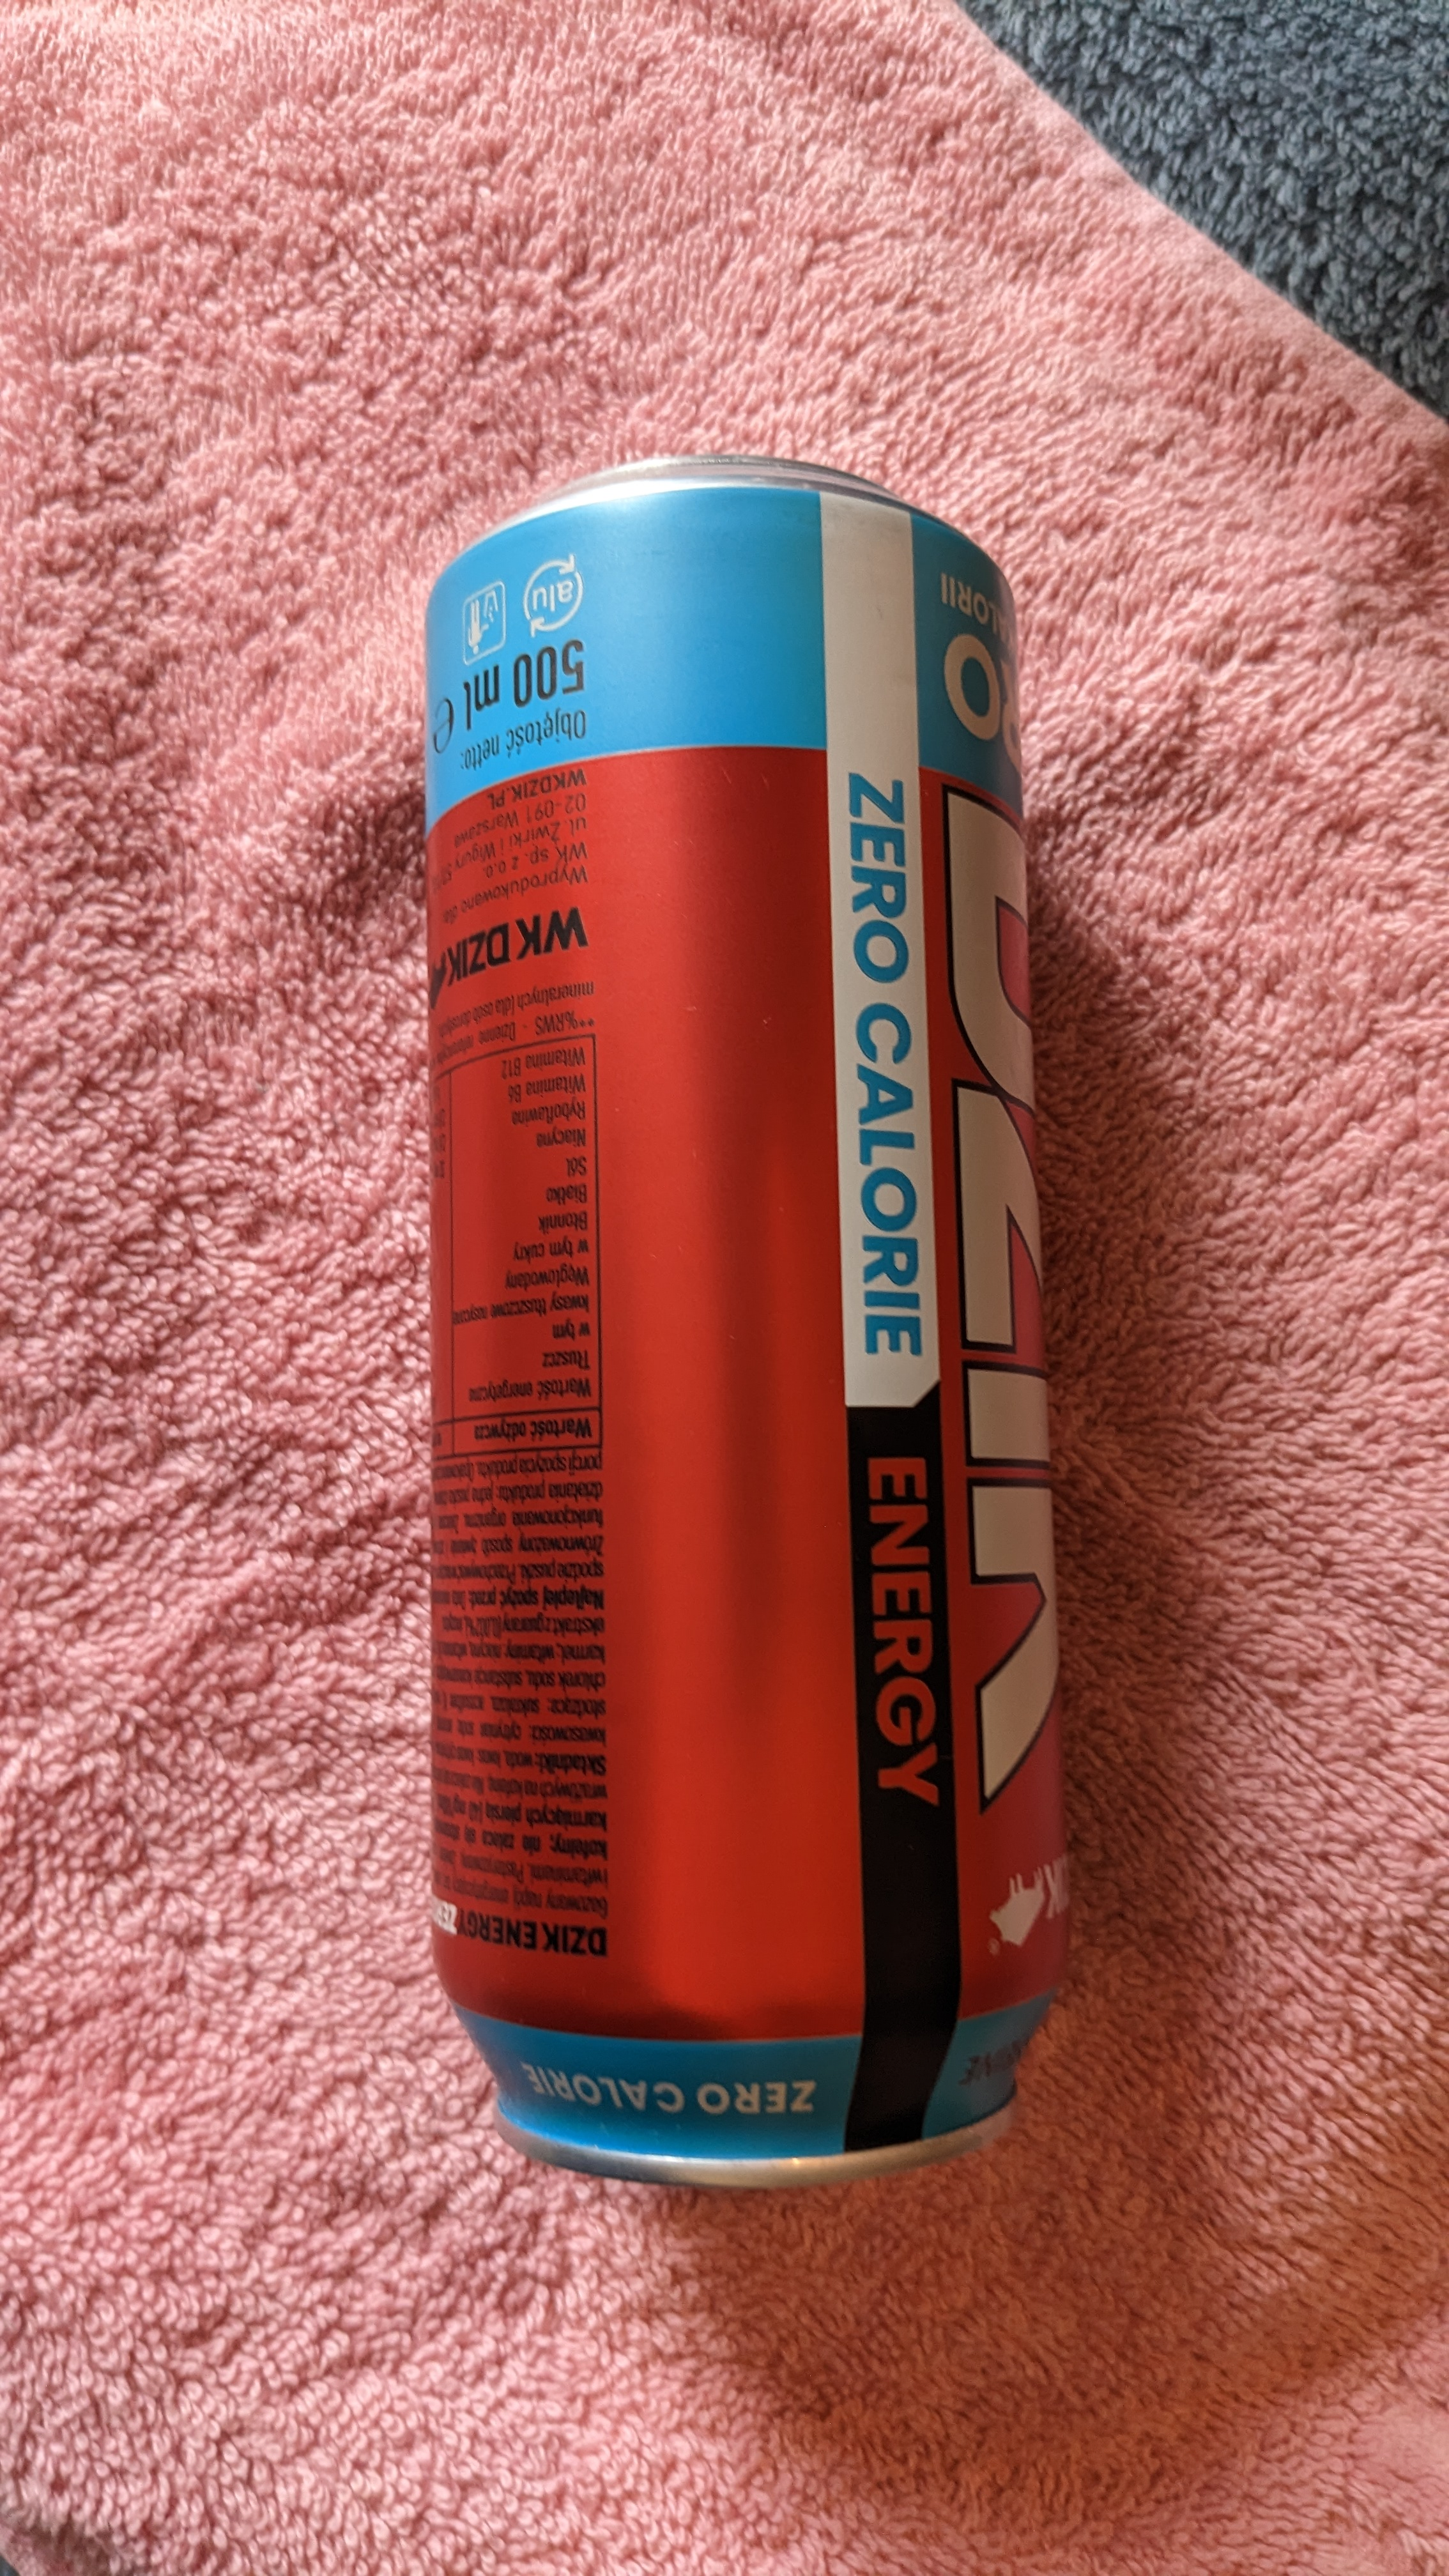dzik: (419, 426, 1122, 2201)
